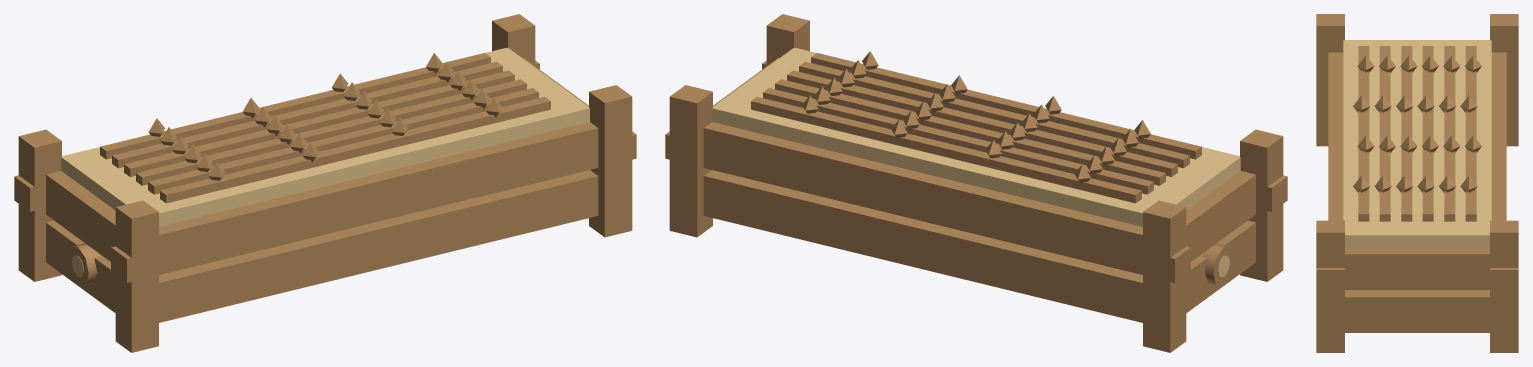
File: Raised-Bed.glb
The picture shows the model from 3 angles, left to right: view 1: azimuth 30°, elevation 25°; view 2: azimuth 150°, elevation 25°; view 3: azimuth 270°, elevation 25°; orthographic projection. The views are drawn at different scales.
Parts seen in each view (by area): view 1: hand-pump-static-raised-bed-honey-timber-mat, hand-pump-static-raised-bed-muted-seedling-mat, hand-pump-static-raised-bed-dark-soil-mat, hand-pump-static-raised-bed-dark-bracket-mat; view 2: hand-pump-static-raised-bed-honey-timber-mat, hand-pump-static-raised-bed-muted-seedling-mat, hand-pump-static-raised-bed-dark-soil-mat, hand-pump-static-raised-bed-dark-bracket-mat; view 3: hand-pump-static-raised-bed-honey-timber-mat, hand-pump-static-raised-bed-dark-soil-mat, hand-pump-static-raised-bed-muted-seedling-mat, hand-pump-static-raised-bed-dark-bracket-mat.
Part boxes in pixels (<box>): hand-pump-static-raised-bed-honey-timber-mat: <box>18,14,632,352</box>; hand-pump-static-raised-bed-muted-seedling-mat: <box>100,53,550,203</box>; hand-pump-static-raised-bed-dark-soil-mat: <box>61,47,589,276</box>; hand-pump-static-raised-bed-dark-bracket-mat: <box>14,60,636,285</box>; hand-pump-static-raised-bed-honey-timber-mat: <box>669,14,1283,352</box>; hand-pump-static-raised-bed-muted-seedling-mat: <box>751,51,1201,203</box>; hand-pump-static-raised-bed-dark-soil-mat: <box>712,47,1240,276</box>; hand-pump-static-raised-bed-dark-bracket-mat: <box>665,60,1287,285</box>; hand-pump-static-raised-bed-honey-timber-mat: <box>1316,14,1518,352</box>; hand-pump-static-raised-bed-dark-soil-mat: <box>1343,40,1491,247</box>; hand-pump-static-raised-bed-muted-seedling-mat: <box>1353,46,1481,221</box>; hand-pump-static-raised-bed-dark-bracket-mat: <box>1316,268,1518,291</box>.
Bounding box in the file's own units: 3.34 × 0.897 × 1.28.
